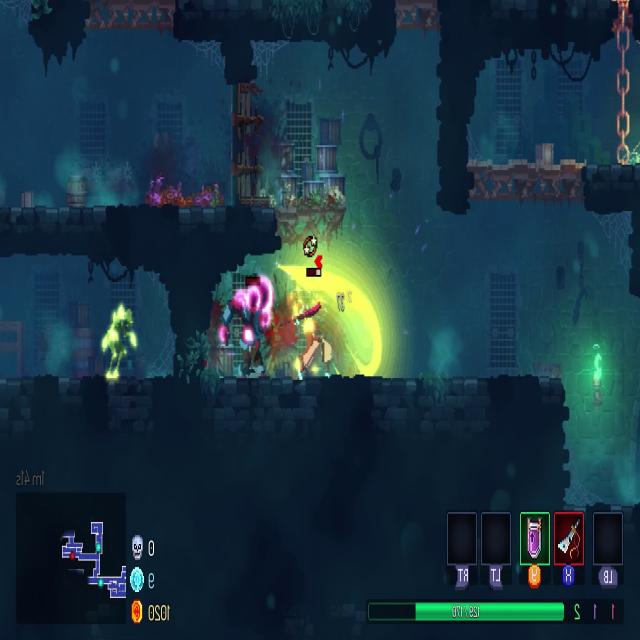agents: (291, 296, 328, 382)
enemy_green_puncher: (100, 305, 136, 382)
enemy_purple_big: (223, 278, 277, 378)
wood_floor: (468, 157, 583, 203), (83, 7, 175, 31), (393, 5, 438, 37)
